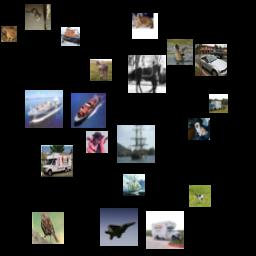airplane: (100, 208, 138, 246)
automobile: (195, 44, 227, 76)
bird: (32, 212, 64, 244), (167, 39, 193, 65), (189, 185, 211, 207)
cat: (25, 4, 51, 30), (132, 13, 158, 39)
dog: (86, 131, 108, 153), (188, 118, 210, 140)
frog: (1, 26, 17, 42)
ship: (117, 125, 155, 163), (25, 90, 63, 128), (71, 93, 106, 128), (123, 174, 145, 196), (61, 27, 80, 46)
truck: (146, 211, 184, 249), (41, 145, 73, 177), (209, 94, 228, 113)
